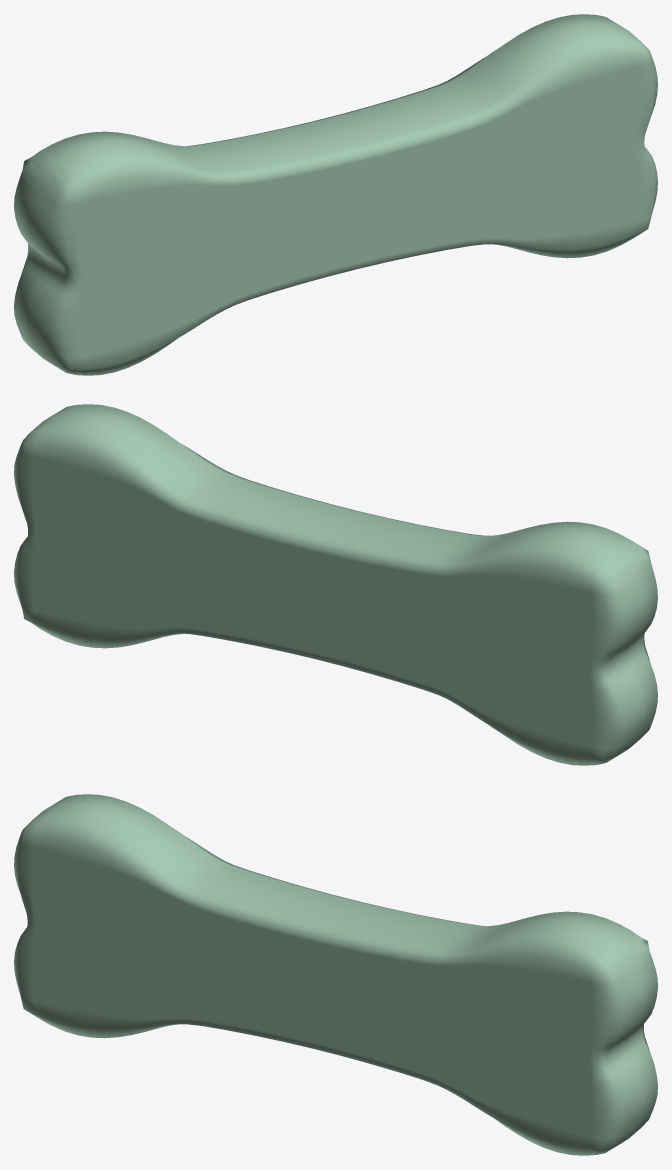
File: picpic.fbx
The picture shows the model from 3 angles, top to bottom: view 1: azimuth 30°, elevation 25°; view 2: azimuth 150°, elevation 25°; view 3: azimuth 330°, elevation 25°; orthographic projection.
Parts seen in each view (by area): view 1: Box064; view 2: Box064; view 3: Box064.
Boxes of the visible parts, <box> form: Box064: <box>14,14,657,375</box>; Box064: <box>14,404,657,765</box>; Box064: <box>14,794,657,1155</box>.
Size of the model in its own units: 188 by 64.54 by 24.69.
